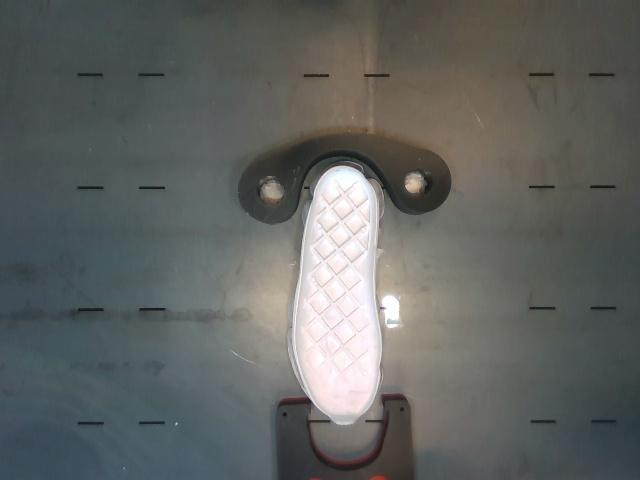shoes: (294, 166, 382, 425)
